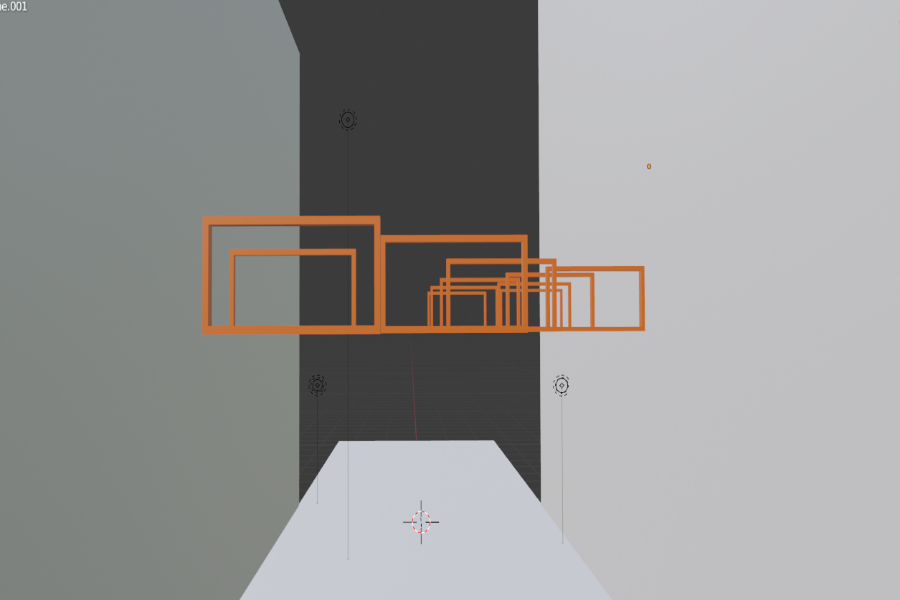GATE: (195, 212, 384, 336)
